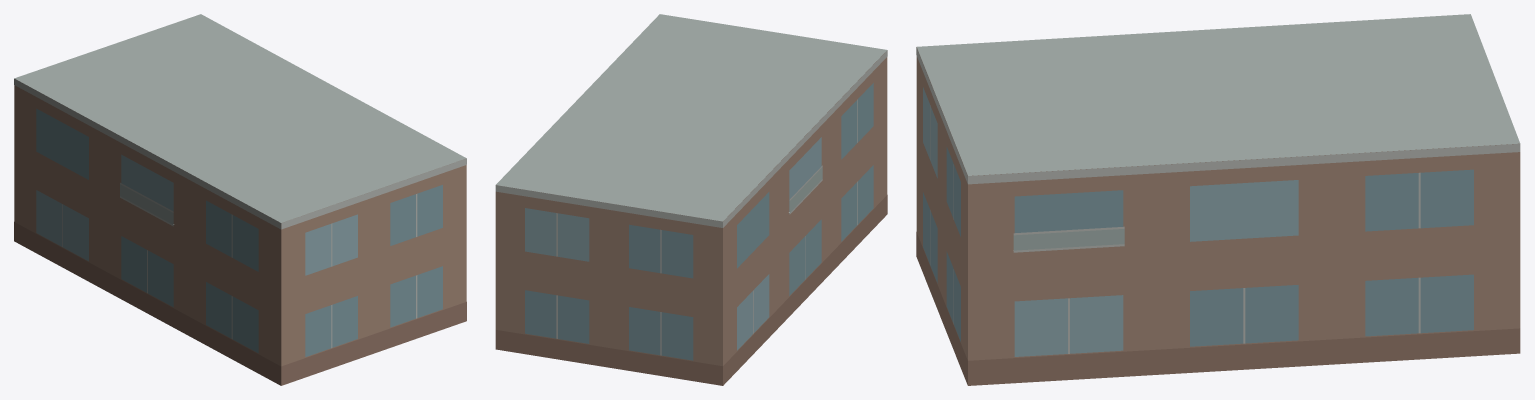
Rendered from survey-upis-32956918.glb.
The picture shows the model from 3 angles, left to right: view 1: azimuth 30°, elevation 25°; view 2: azimuth 150°, elevation 25°; view 3: azimuth 270°, elevation 25°; orthographic projection. The views are drawn at different scales.
Parts seen in each view (by area): view 1: survey-upis-32956918.tmp; view 2: survey-upis-32956918.tmp; view 3: survey-upis-32956918.tmp.
Part boxes in pixels (x1,y1,x2,y2): survey-upis-32956918.tmp: (14, 14, 466, 385); survey-upis-32956918.tmp: (495, 14, 887, 385); survey-upis-32956918.tmp: (916, 14, 1520, 385).
Bounding box in the file's own units: 10.11 × 6.1 × 15.92.
